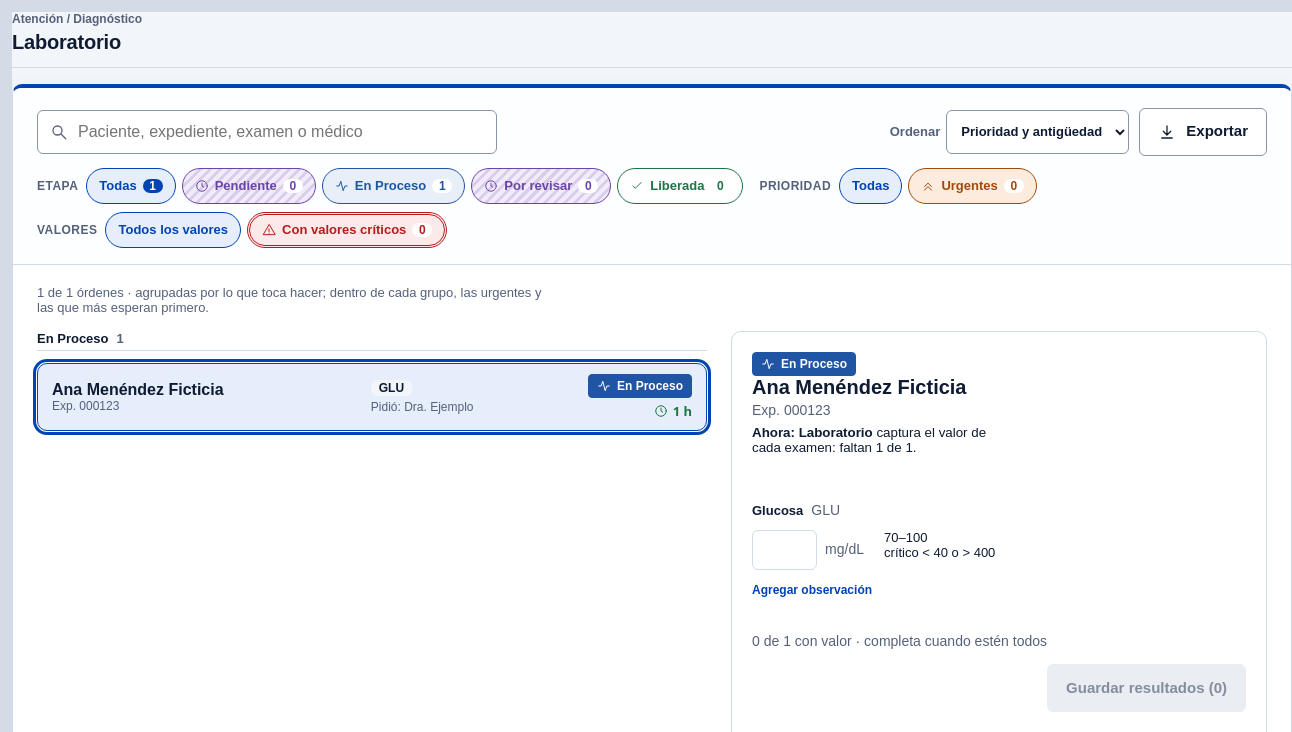
Laboratorio · auditoría 2026-11-20 › D103: a negative glucose is refused in place and does not save
Type "-5" into the field named "Glucosa (mg/dL)" at [785, 550], box [752,530,817,570]
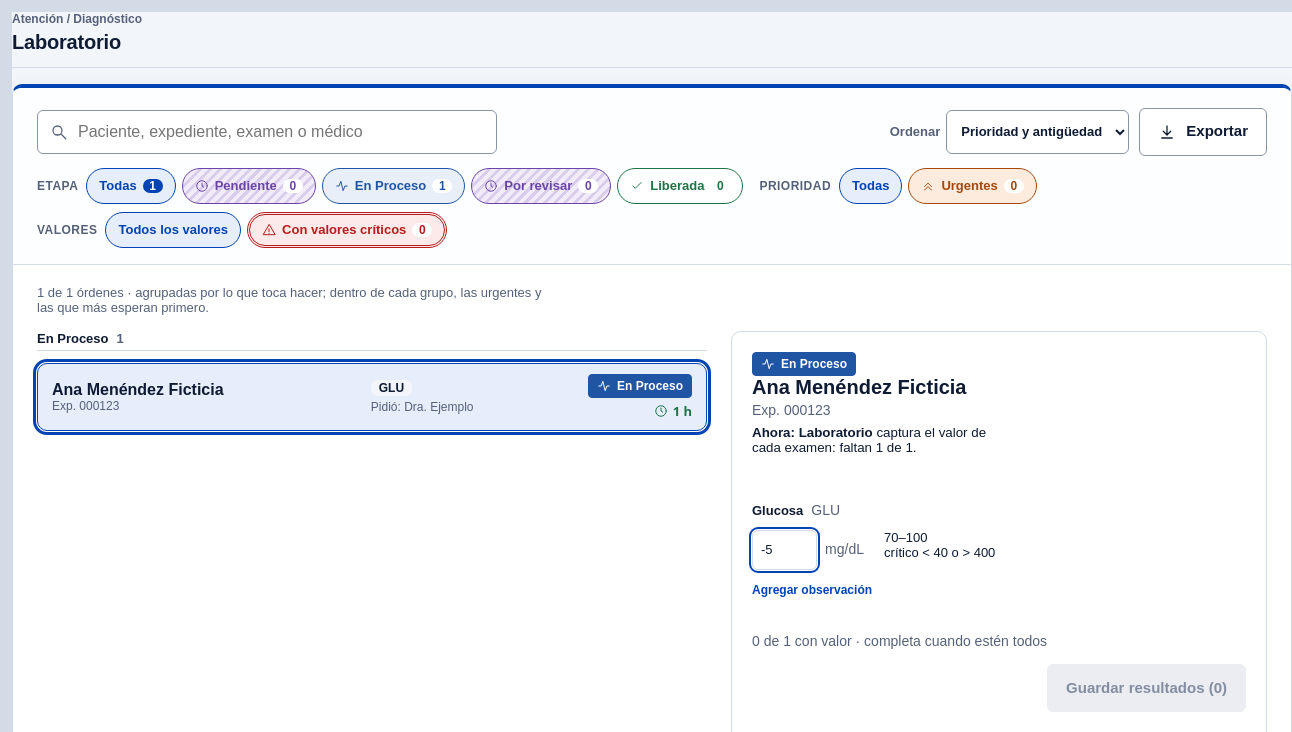
Press Tab
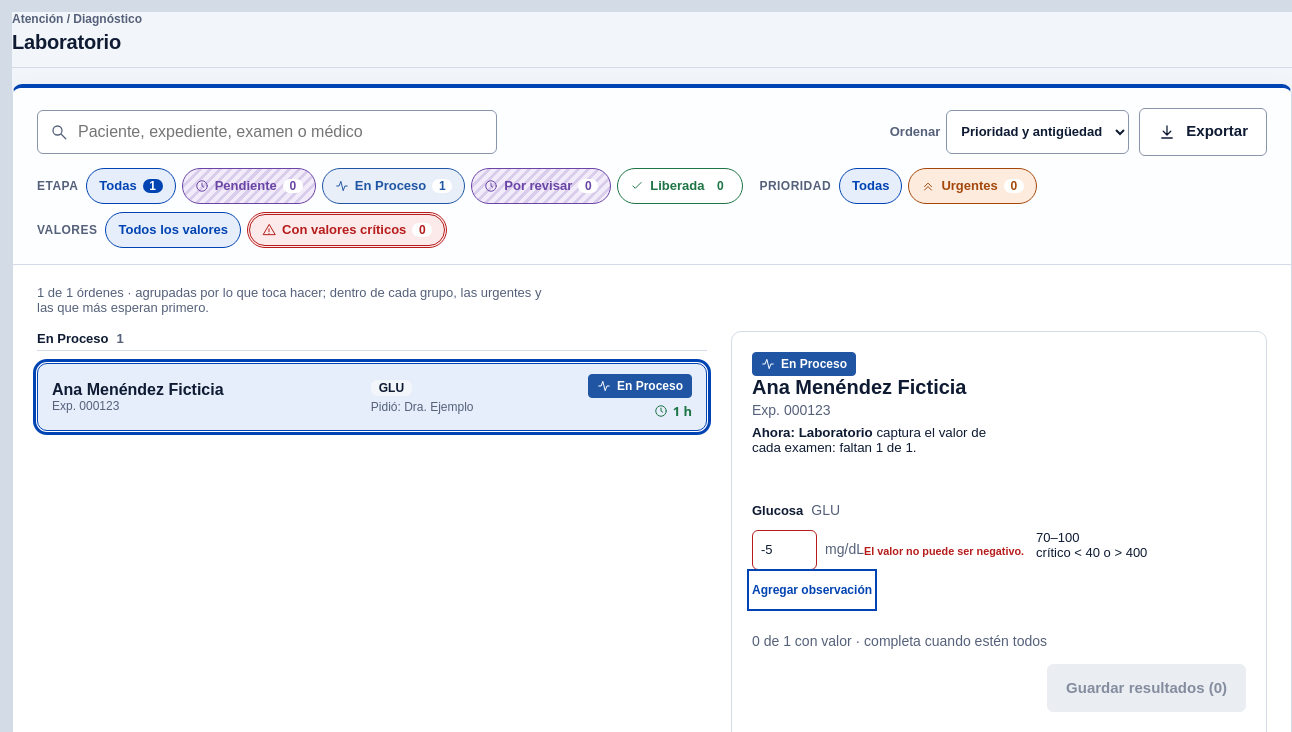
Expected: the button "Guardar resultados (0)" is disabled, [1047,664,1246,712]
Expected: the text "El valor no puede ser negativo." is shown, [864,544,1024,556]
